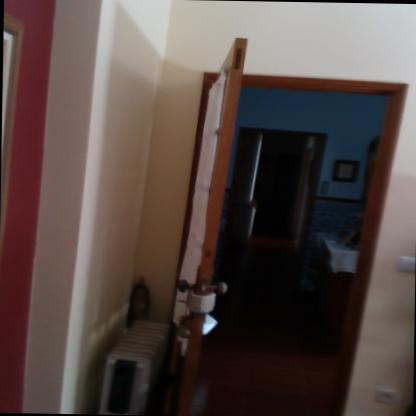open: (166, 29, 415, 415)
